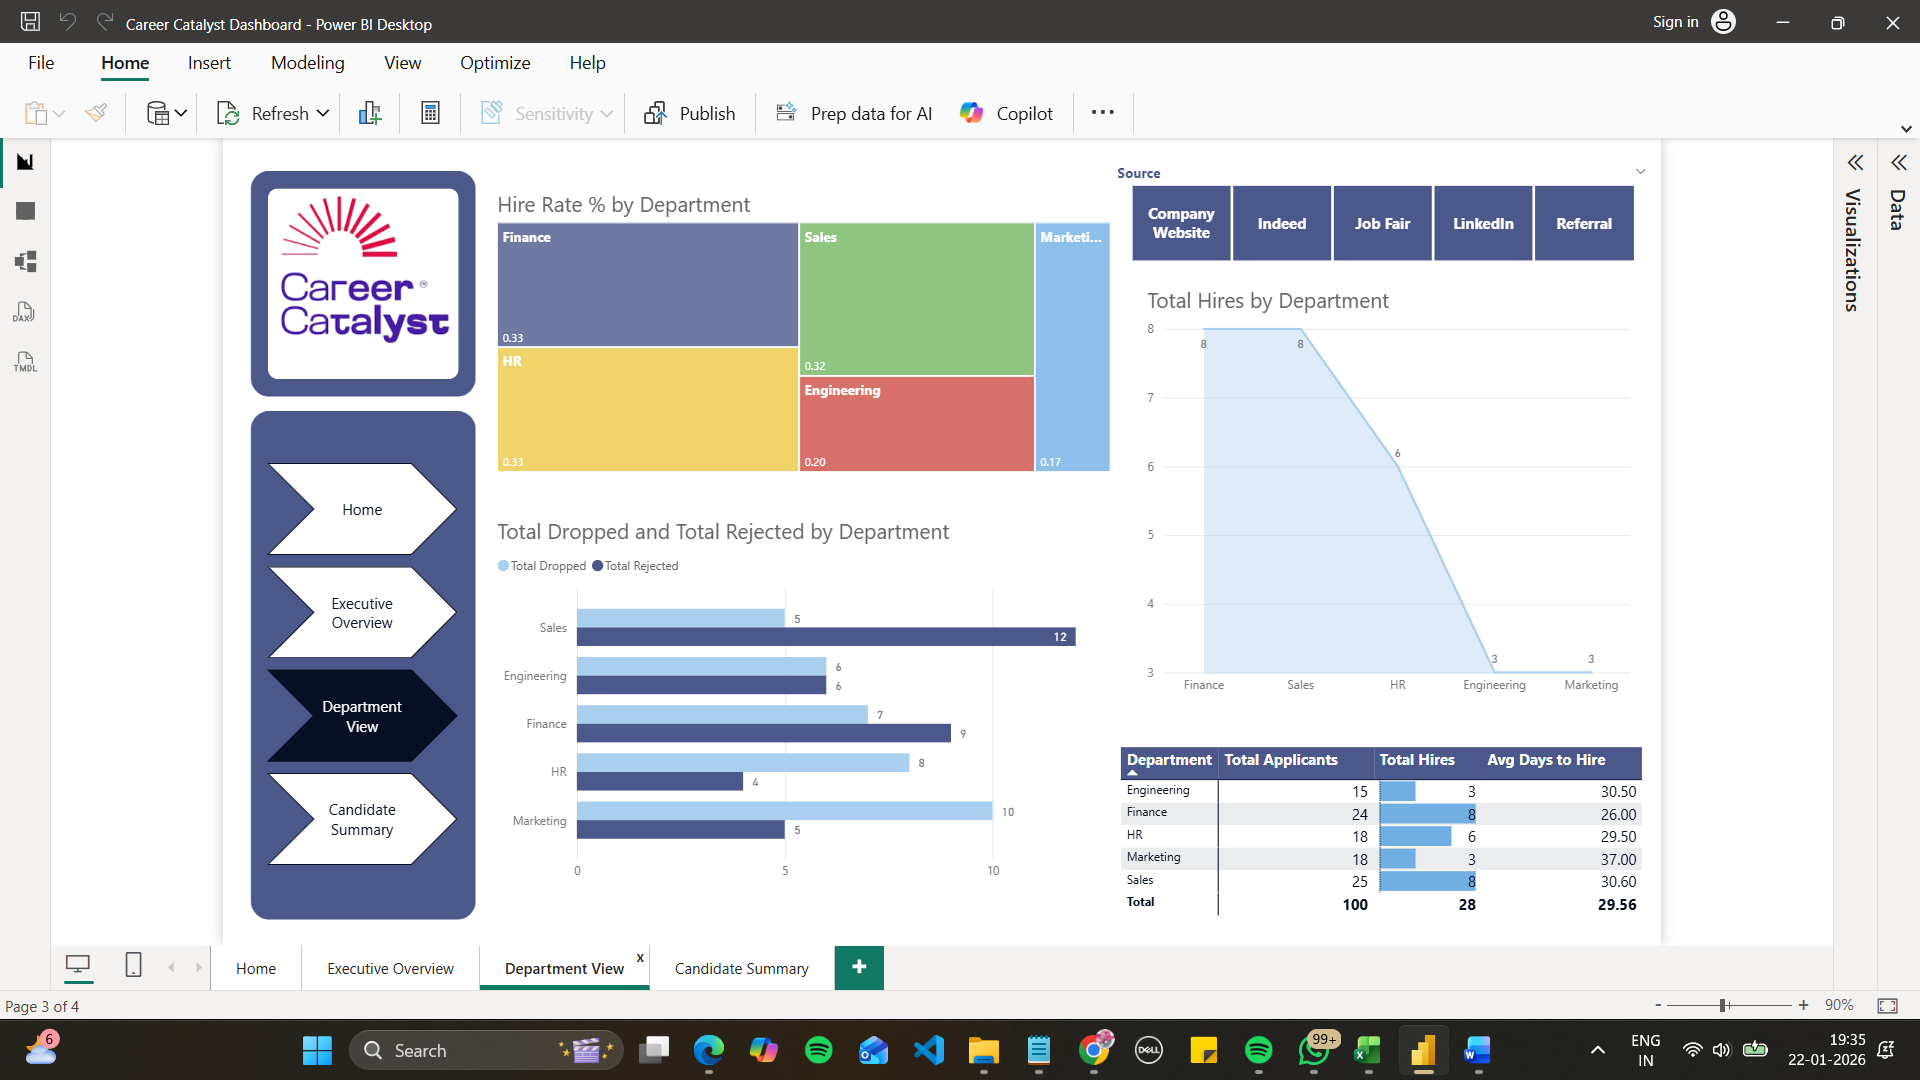

This screenshot's page, from the dashboard's own definition file:
{"tool":"powerbi","page":{"name":"Department View","canvas":[1280,720],"ordinal":2},"visuals":[{"type":"clusteredBarChart","fields":{"Category":["RecruitmentData.Department"],"Y":["RecruitmentData.Total Dropped","RecruitmentData.Total Rejected"]},"box":[238.9,337.8,550.1,331.8],"z":0},{"type":"areaChart","fields":{"Category":["RecruitmentData.Department"],"Y":["RecruitmentData.Total Hires"]},"box":[818,131.5,440.4,372.8],"z":1000},{"type":"slicer","fields":{"Values":["RecruitmentData.Source"]},"box":[783.8,18.3,496.5,97.8],"z":2000},{"type":"treemap","fields":{"Group":["RecruitmentData.Department"],"Values":["RecruitmentData.Hire Rate %"]},"box":[238.9,45.8,556.2,257],"z":3000},{"type":"pivotTable","fields":{"Rows":["RecruitmentData.Department"],"Values":["RecruitmentData.Total Applicants","RecruitmentData.Total Hires","RecruitmentData.Avg Days to Hire"]},"box":[795,538.1,485,165.3],"z":4000},{"type":"pageNavigator","box":[38.6,289.5,170.1,360.7],"z":5000}]}

Visuals, with their boxes on the page's 1280x720 design canvas (x1, y1, x2, y2). These are canvas units, not pixel positions in the 1920x1080 screenshot, which may show the page scaled, cropped or inside an application window:
clusteredBarChart - RecruitmentData.Department x RecruitmentData.Total Dropped: 239, 338, 789, 670
areaChart - RecruitmentData.Department x RecruitmentData.Total Hires: 818, 132, 1258, 504
slicer - RecruitmentData.Source: 784, 18, 1280, 116
treemap - RecruitmentData.Department x RecruitmentData.Hire Rate %: 239, 46, 795, 303
pivotTable - RecruitmentData.Department x RecruitmentData.Total Applicants: 795, 538, 1280, 703
pageNavigator: 39, 290, 209, 650
